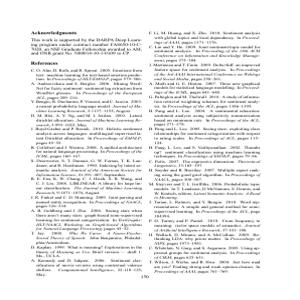text: (146, 30, 265, 275), (27, 30, 144, 278)
